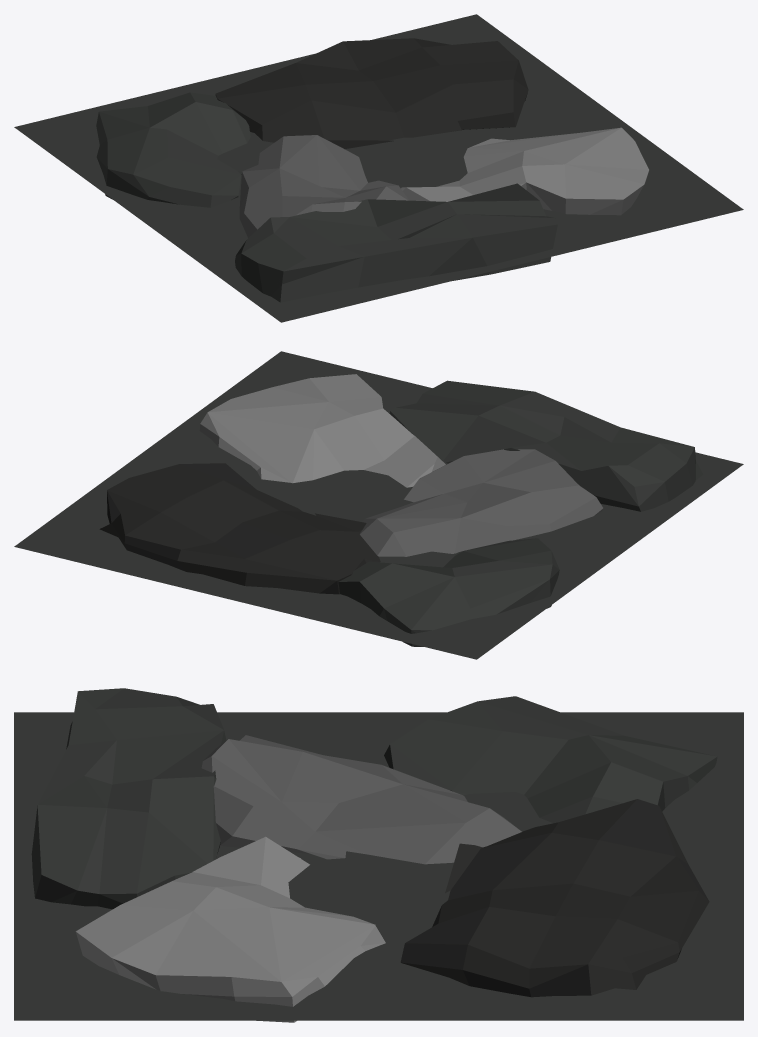
The model's file is ground3.fbx.
3 views of the same model, one above another, from view 1: azimuth 30°, elevation 25°; view 2: azimuth 150°, elevation 25°; view 3: azimuth 270°, elevation 25° (orthographic). The views are drawn at different scales.
Parts seen in each view (by area): view 1: ground3_LOD0; view 2: ground3_LOD0; view 3: ground3_LOD0.
Boxes of the visible parts, box(x1,y1,x2,y2) form: ground3_LOD0: box(14, 14, 743, 322); ground3_LOD0: box(14, 351, 743, 659); ground3_LOD0: box(14, 688, 743, 1022).
Size of what is drawn, in the model's own units: 8 by 1.04 by 8.
